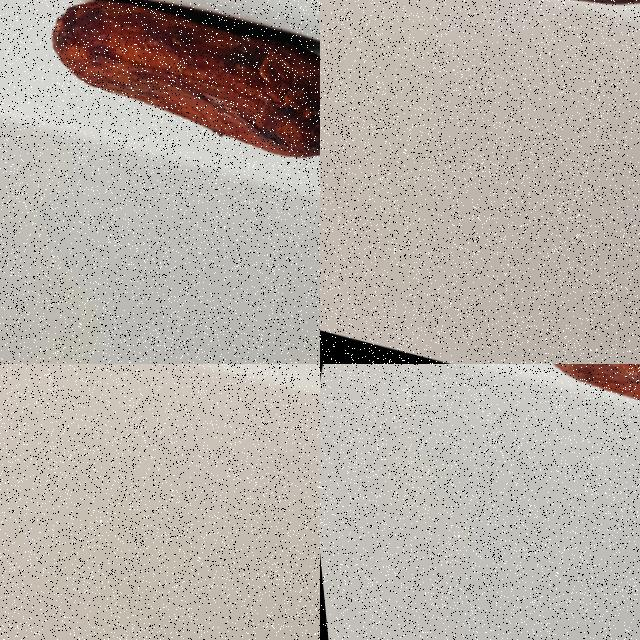Fine_cocoabeans: (0, 0, 319, 223), (367, 364, 639, 508), (320, 0, 639, 94)
Flat_cocoabeans: (93, 364, 319, 455)
